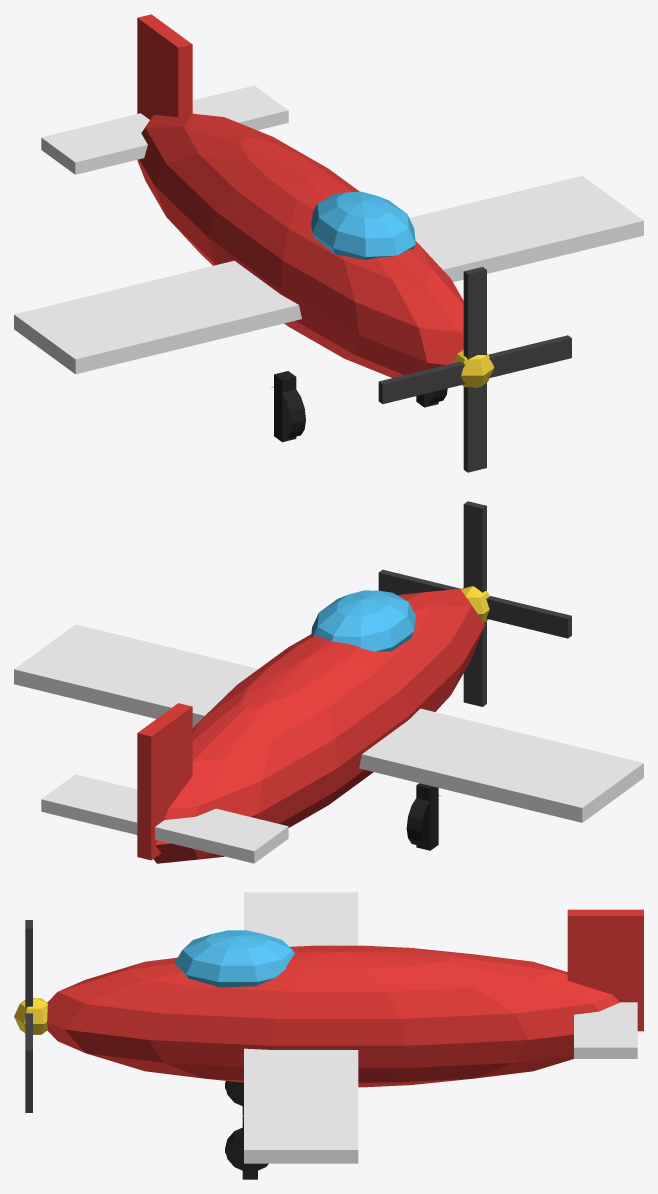
The model's file is flygplan.glb.
3 renders of one model, top to bottom at view 1: azimuth 30°, elevation 25°; view 2: azimuth 150°, elevation 25°; view 3: azimuth 270°, elevation 25°, orthographic. The views are drawn at different scales.
Parts seen in each view (by area): view 1: flygplan; view 2: flygplan; view 3: flygplan.
Part boxes in pixels (x1,y1,x2,y2): flygplan: (14, 14, 643, 472); flygplan: (14, 501, 643, 863); flygplan: (14, 892, 643, 1179).
Bounding box in the file's own units: 2.4 × 1 × 2.48.
